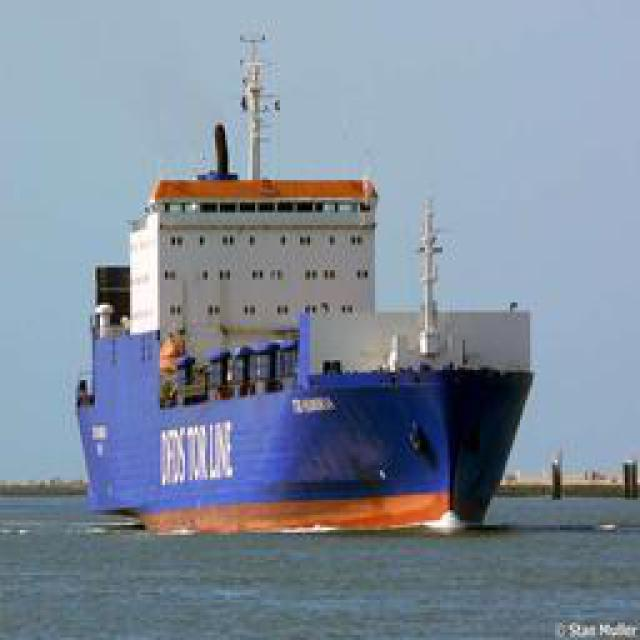Ship: (70, 100, 520, 528)
